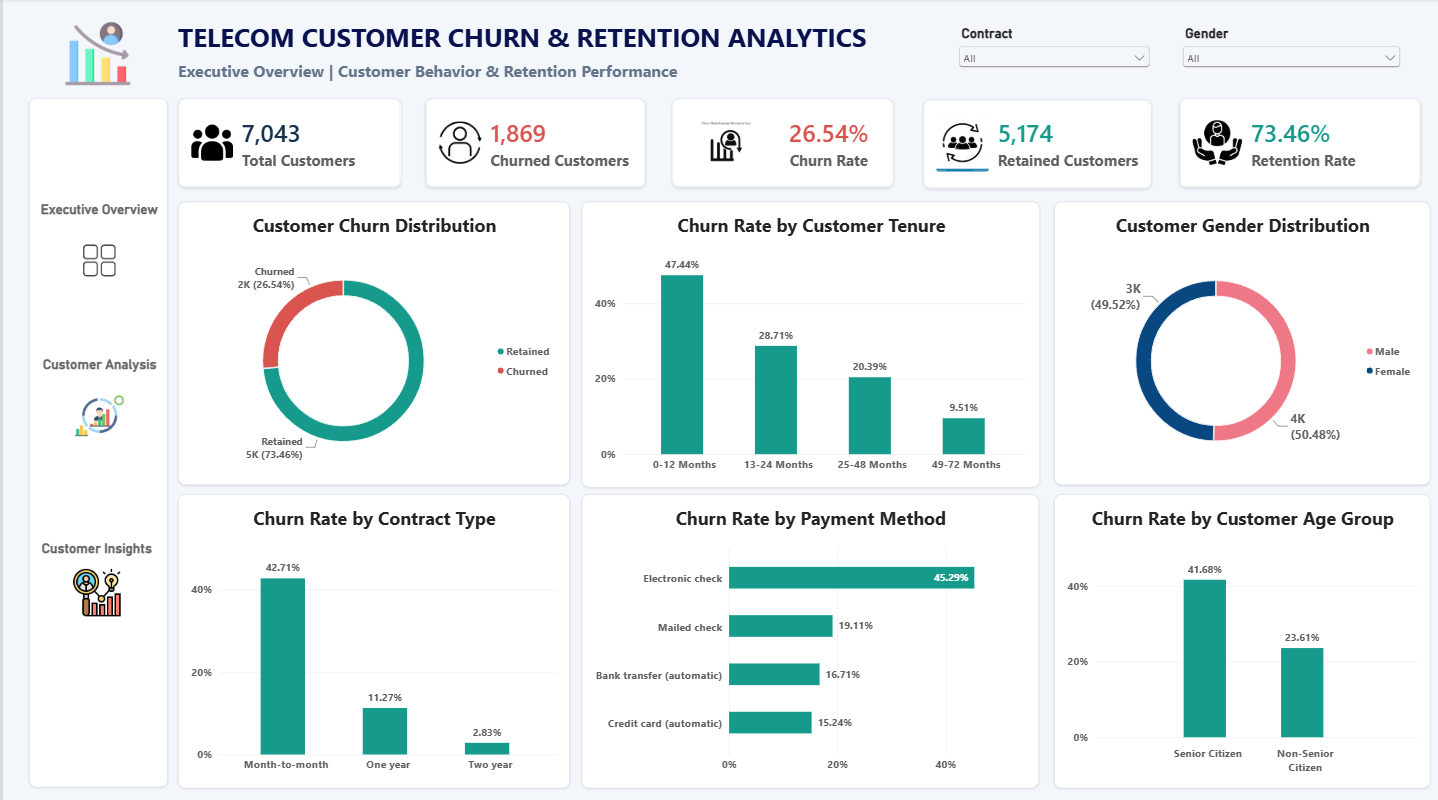

The dashboard page shown, as its layout file describes it:
{"tool":"powerbi","page":{"name":"Executive Overview","canvas":[1920,1080],"ordinal":1},"visuals":[{"type":"textbox","box":[34.9,134.3,184.9,920.9],"z":0},{"type":"textbox","title":"TELECOM CUSTOMER CHURN & RETENTION ANALYTICS","box":[234,28,928,92],"z":1000},{"type":"cardVisual","fields":{"Data":["Telco-Customer-Churn_Raw.Total Customers Display"]},"box":[233.7,134.3,298.3,120.3],"z":2000},{"type":"cardVisual","fields":{"Data":["Telco-Customer-Churn_Raw.Churned Customers Display"]},"box":[565.1,134.3,294.8,120.3],"z":3000},{"type":"cardVisual","fields":{"Data":["Telco-Customer-Churn_Raw.Churn Rate"]},"box":[893,134.3,296.5,120.3],"z":4000},{"type":"cardVisual","fields":{"Data":["Telco-Customer-Churn_Raw.Retention Rate"]},"box":[1571.5,134.3,322.7,120.3],"z":5000},{"type":"donutChart","title":"Customer Churn Distribution","fields":{"Category":["Telco-Customer-Churn_Raw.Churn Status"],"Y":["Telco-Customer-Churn_Raw.Total Customers"]},"box":[233.7,272.1,523.3,378.5],"z":6000},{"type":"clusteredColumnChart","title":"Churn Rate by Contract Type","fields":{"Category":["Telco-Customer-Churn_Raw.Contract"],"Y":["Telco-Customer-Churn_Raw.Churn Rate by Segment"]},"box":[233.7,662.8,523.3,392.4],"z":7000},{"type":"clusteredColumnChart","title":"Churn Rate by Customer Tenure","fields":{"Category":["Telco-Customer-Churn_Raw.Tenure Group"],"Y":["Telco-Customer-Churn_Raw.Churn Rate by Segment"]},"box":[772.7,272.1,612.2,382],"z":8000},{"type":"clusteredBarChart","title":"Churn Rate by Payment Method","fields":{"Category":["Telco-Customer-Churn_Raw.PaymentMethod"],"Y":["Telco-Customer-Churn_Raw.Churn Rate by Segment"]},"box":[772.7,662.8,610.5,392.4],"z":9000},{"type":"clusteredColumnChart","title":"Churn Rate by Customer Age Group","fields":{"Category":["Telco-Customer-Churn_Raw.Customer Age Group"],"Y":["Telco-Customer-Churn_Raw.Churn Rate by Segment"]},"box":[1404.1,662.8,502.3,392.4],"z":10000},{"type":"cardVisual","fields":{"Data":["Telco-Customer-Churn_Raw.Retained Customers Display"]},"box":[1229.7,136,305.2,120.3],"z":11000},{"type":"donutChart","title":"Customer Gender Distribution","fields":{"Category":["Telco-Customer-Churn_Raw.gender"],"Y":["Telco-Customer-Churn_Raw.Total Customers"]},"box":[1404.1,272.1,502.3,378.5],"z":12000},{"type":"image","title":"Customer Analysis","box":[36,480,184.9,120.3],"z":13000},{"type":"image","title":"Customer Insights","box":[34,724,184,102],"z":14000},{"type":"image","box":[34,28,186,92],"z":15000},{"type":"slicer","fields":{"Values":["Telco-Customer-Churn_Raw.Contract"]},"box":[1272,36,264,74],"z":16000},{"type":"slicer","fields":{"Values":["Telco-Customer-Churn_Raw.gender"]},"box":[1572,36,300,74],"z":17000},{"type":"image","title":"Home","box":[36,336,182,86],"z":18000}]}

Visuals, with their boxes in screenshot pixels (x1, y1, x2, y2), scaled from the page's 1920x1080 canvas onto the 1438x800 screenshot:
textbox: x1=26, y1=99, x2=165, y2=782
"TELECOM CUSTOMER CHURN & RETENTION ANALYTICS" textbox: x1=175, y1=21, x2=870, y2=89
cardVisual - Telco-Customer-Churn_Raw.Total Customers Display: x1=175, y1=99, x2=398, y2=189
cardVisual - Telco-Customer-Churn_Raw.Churned Customers Display: x1=423, y1=99, x2=644, y2=189
cardVisual - Telco-Customer-Churn_Raw.Churn Rate: x1=669, y1=99, x2=891, y2=189
cardVisual - Telco-Customer-Churn_Raw.Retention Rate: x1=1177, y1=99, x2=1419, y2=189
"Customer Churn Distribution" donutChart: x1=175, y1=202, x2=567, y2=482
"Churn Rate by Contract Type" clusteredColumnChart: x1=175, y1=491, x2=567, y2=782
"Churn Rate by Customer Tenure" clusteredColumnChart: x1=579, y1=202, x2=1037, y2=485
"Churn Rate by Payment Method" clusteredBarChart: x1=579, y1=491, x2=1036, y2=782
"Churn Rate by Customer Age Group" clusteredColumnChart: x1=1052, y1=491, x2=1428, y2=782
cardVisual - Telco-Customer-Churn_Raw.Retained Customers Display: x1=921, y1=101, x2=1150, y2=190
"Customer Gender Distribution" donutChart: x1=1052, y1=202, x2=1428, y2=482
"Customer Analysis" image: x1=27, y1=356, x2=165, y2=445
"Customer Insights" image: x1=25, y1=536, x2=163, y2=612
image: x1=25, y1=21, x2=165, y2=89
slicer - Telco-Customer-Churn_Raw.Contract: x1=953, y1=27, x2=1150, y2=81
slicer - Telco-Customer-Churn_Raw.gender: x1=1177, y1=27, x2=1402, y2=81
"Home" image: x1=27, y1=249, x2=163, y2=313
